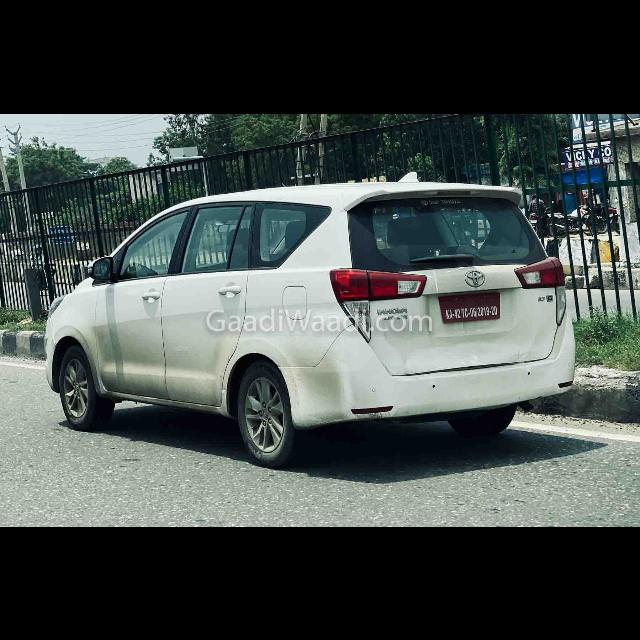number-plate: (440, 289, 504, 323)
vehicles: (46, 178, 581, 460)
